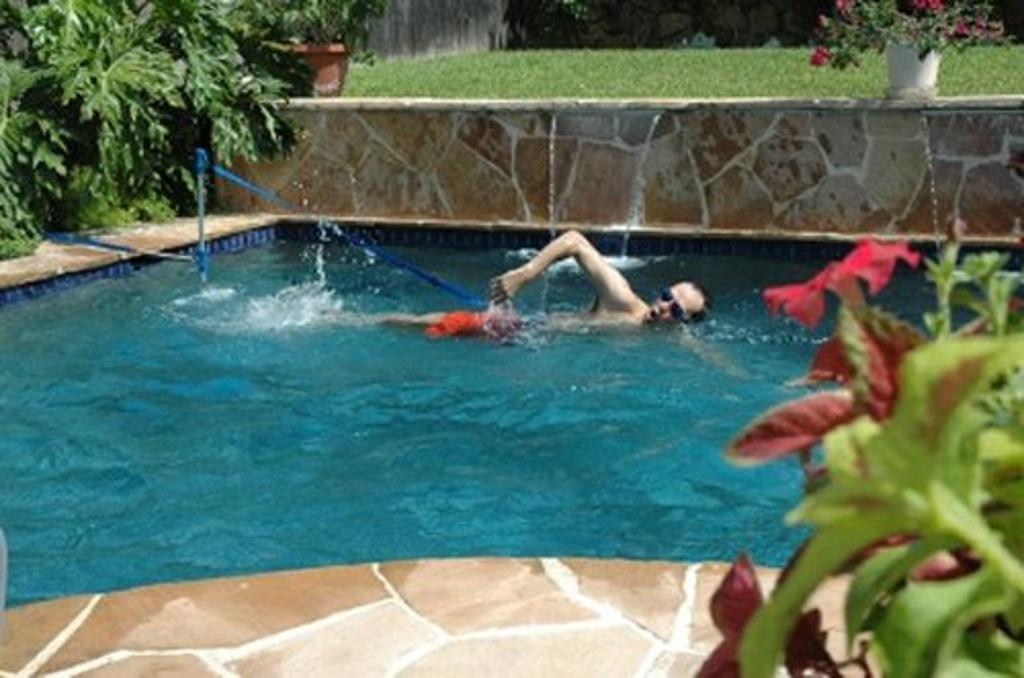face: (649, 283, 701, 339)
